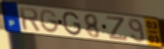8: (83, 13, 102, 39)
9: (127, 18, 146, 44)
G: (38, 8, 60, 34), (62, 11, 83, 37)
R: (18, 6, 42, 33)
Z: (106, 15, 129, 42)
